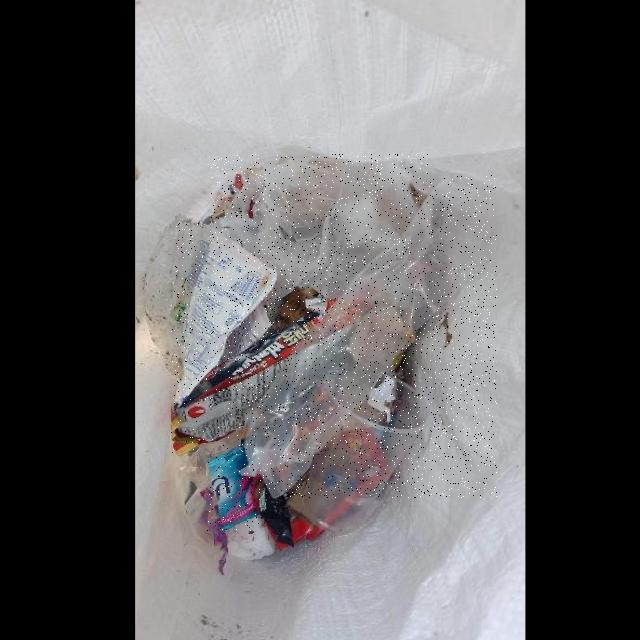plastic: (238, 175, 497, 497), (211, 154, 428, 303)
wrapper: (172, 311, 320, 456), (175, 223, 276, 405), (206, 442, 263, 531)
